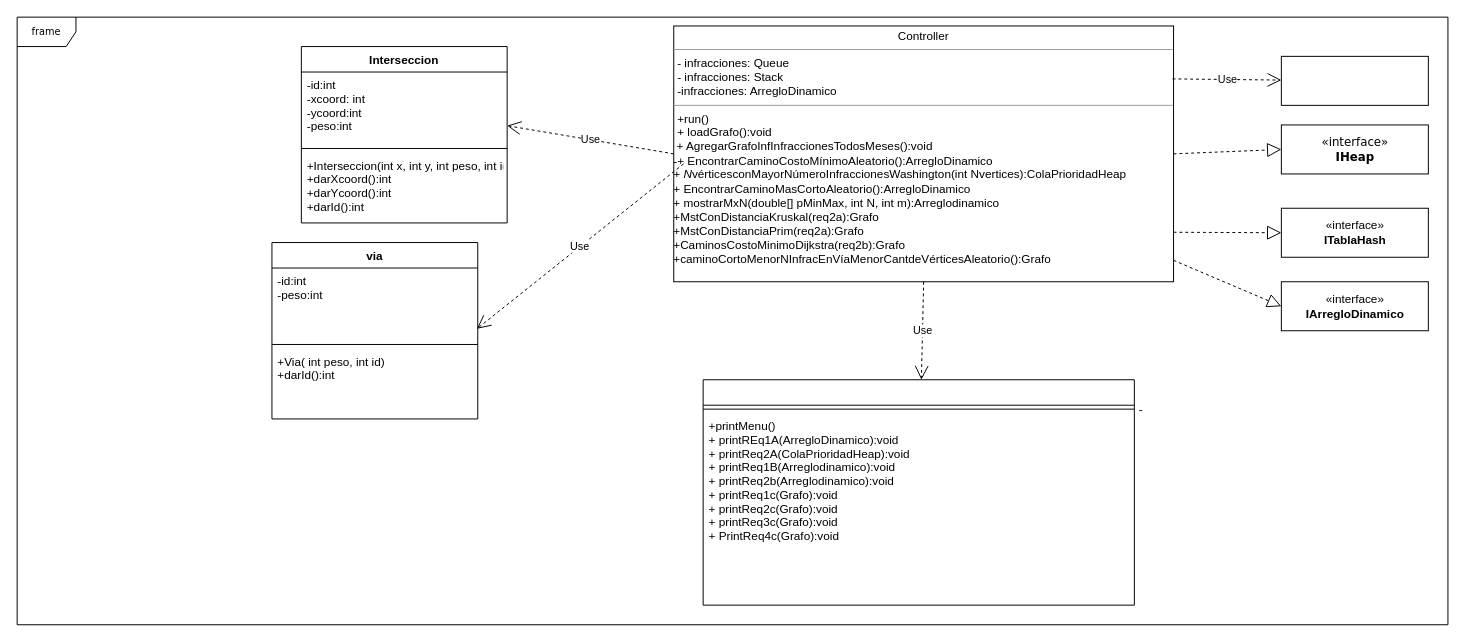
Image size: 1465x642. Some labels were removed from this diagram. The shapes that lost their labels are listed below. From the top down, each one's box as (x1, y1, x2, y2) in pixels, then its label:
(1280, 55, 1428, 105): Grafo
(702, 379, 1134, 605): ManagerView
